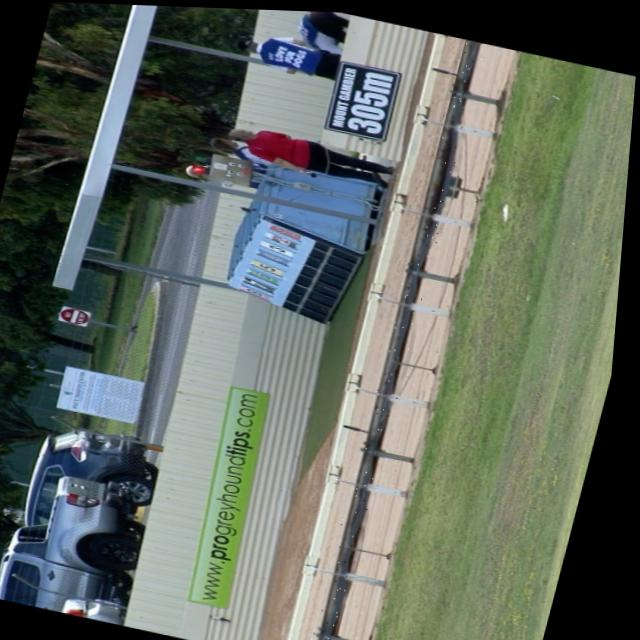rail: (329, 36, 483, 640)
